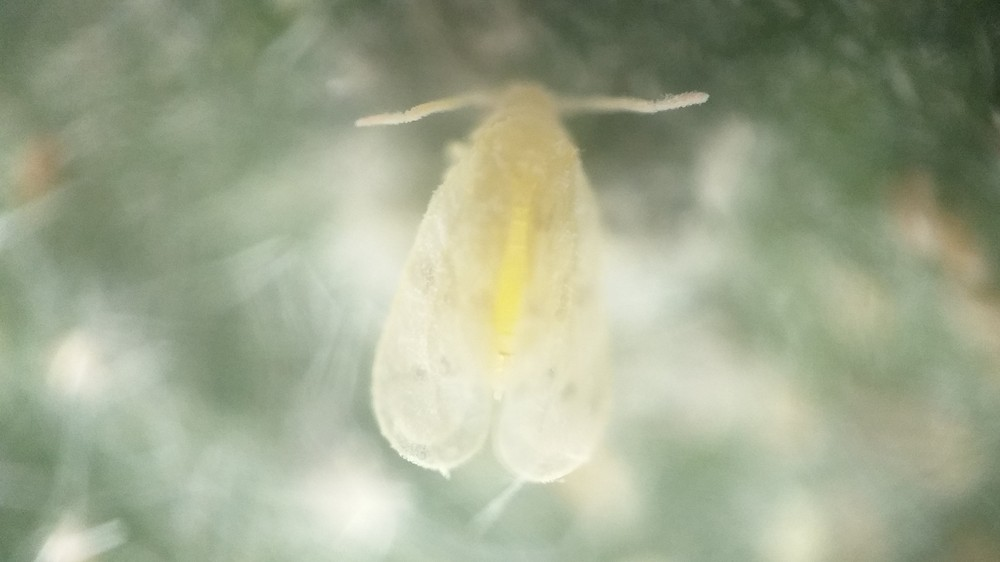Mosca Blanca: (340, 69, 714, 492)
